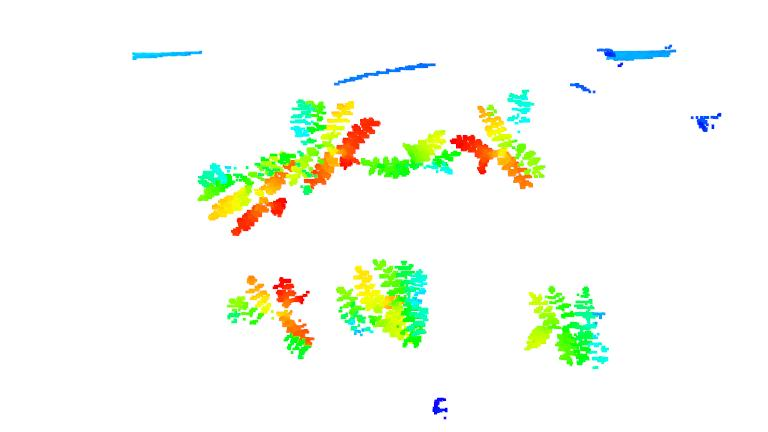chickpea: (451, 85, 547, 189), (285, 92, 381, 195), (192, 149, 297, 239), (335, 252, 430, 351), (218, 270, 317, 360), (527, 278, 612, 373), (358, 125, 455, 190)
